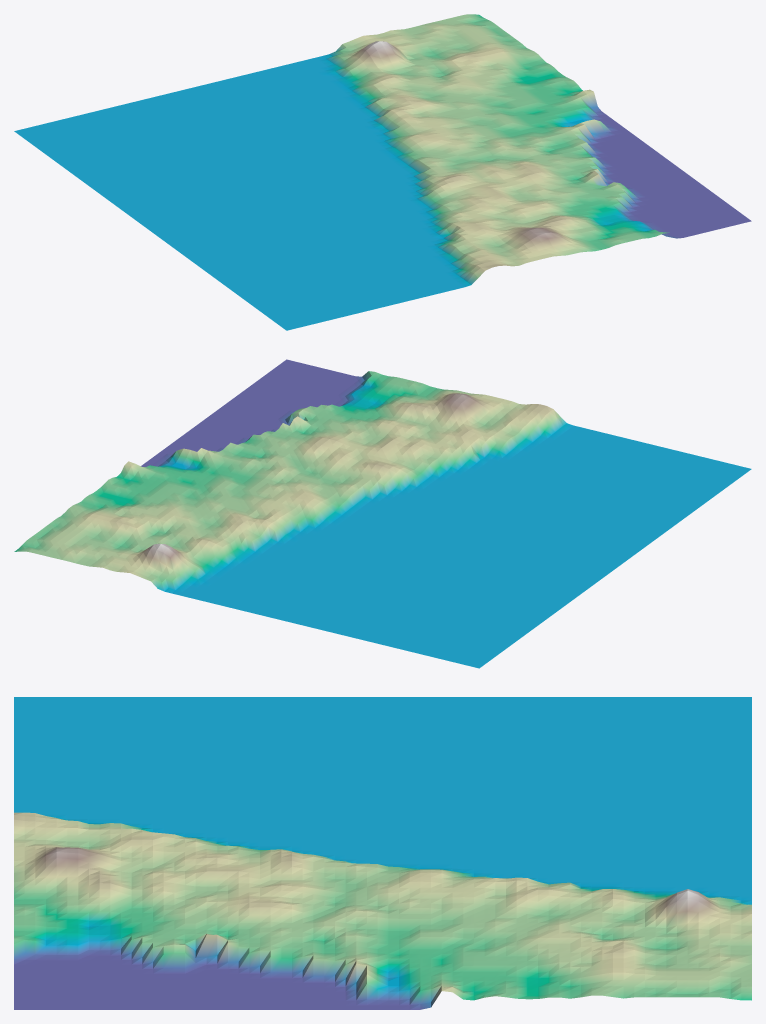
Rendered from 001159_with_tree.glb.
3 views of the same model, one above another, from view 1: azimuth 30°, elevation 25°; view 2: azimuth 150°, elevation 25°; view 3: azimuth 270°, elevation 25° (orthographic). The views are drawn at different scales.
Parts seen in each view (by area): view 1: terrain; view 2: terrain; view 3: terrain.
Boxes of the visible parts, bbox=[...] form: terrain: bbox=[14, 14, 751, 330]; terrain: bbox=[14, 359, 751, 668]; terrain: bbox=[14, 697, 751, 1009].
Size of the model in its own units: 0.0183 by 0.00105 by 0.0186.
